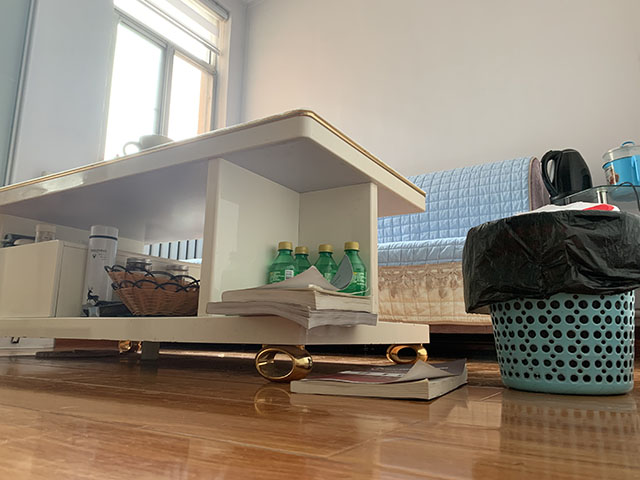book: (289, 359, 469, 402)
table: (1, 108, 433, 385)
trashcan: (461, 201, 640, 397)
